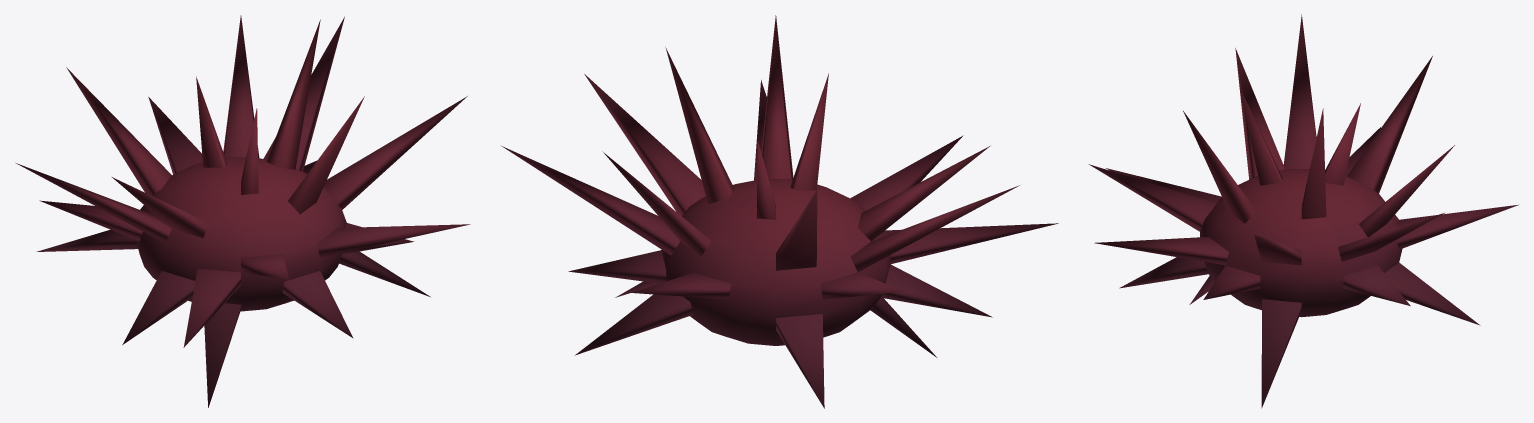
File: environment_evilplant_pustule.fbx
The picture shows the model from 3 angles, left to right: view 1: azimuth 30°, elevation 25°; view 2: azimuth 150°, elevation 25°; view 3: azimuth 270°, elevation 25°; orthographic projection. The views are drawn at different scales.
Parts seen in each view (by area): view 1: pSphere1; view 2: pSphere1; view 3: pSphere1.
Part boxes in pixels (x1,y1,x2,y2): pSphere1: (16,15,470,407); pSphere1: (501,15,1058,408); pSphere1: (1088,14,1518,408).
Bounding box in the file's own units: 511 × 335 × 463.
